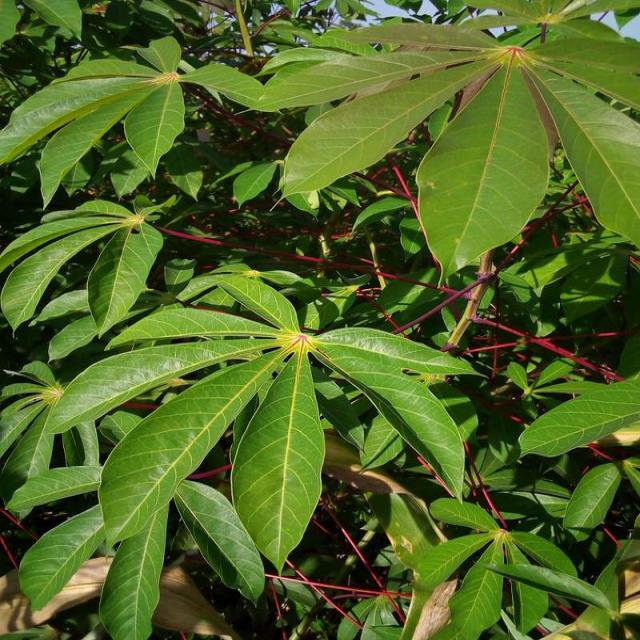cassava leaf: (0, 1, 638, 637), (414, 49, 550, 285), (230, 337, 326, 575)
